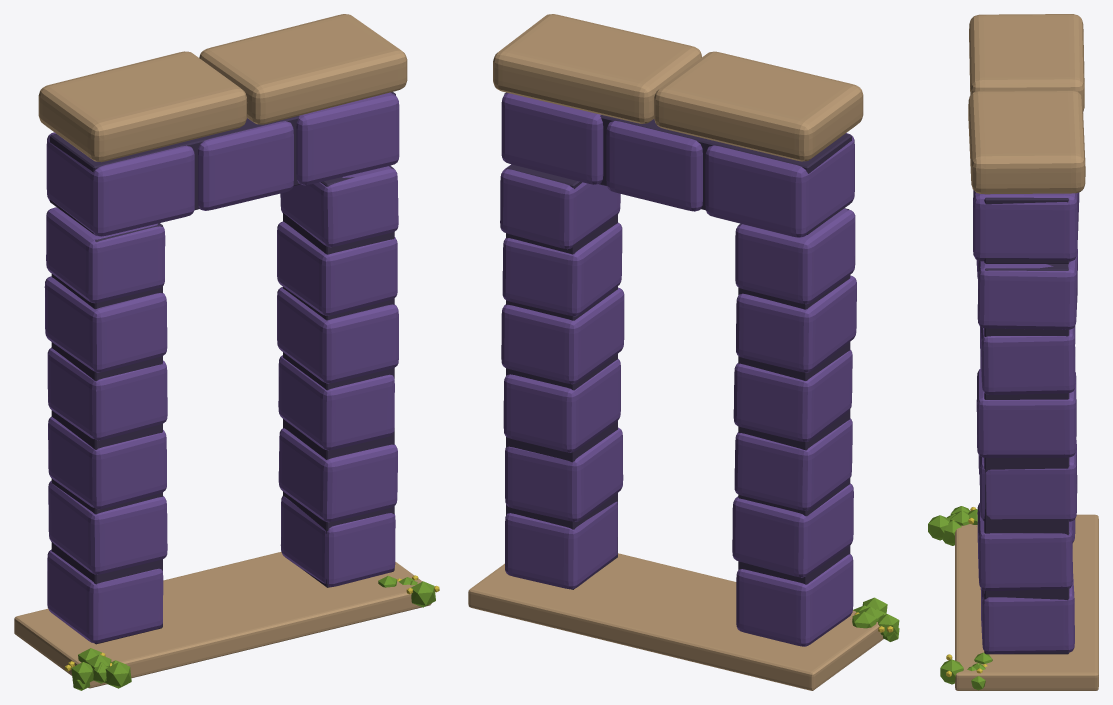
Rendered from CircleDoor_frame.glb.
3 views of the same model, side by side, from view 1: azimuth 30°, elevation 25°; view 2: azimuth 150°, elevation 25°; view 3: azimuth 270°, elevation 25° (orthographic). The views are drawn at different scales.
Visible parts, largest first — view 1: CircleDoor_frame; view 2: CircleDoor_frame; view 3: CircleDoor_frame.
Boxes of the visible parts, x1,y1,x2,y2 form: CircleDoor_frame: (14, 14, 439, 690); CircleDoor_frame: (468, 14, 899, 690); CircleDoor_frame: (928, 14, 1098, 690).
Bounding box in the file's own units: 1.23 × 1.79 × 0.5223.
